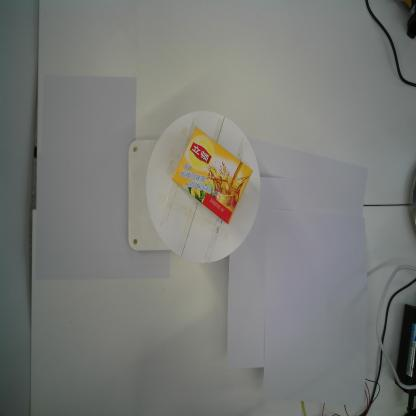Instant Drink: (172, 125, 253, 224)
